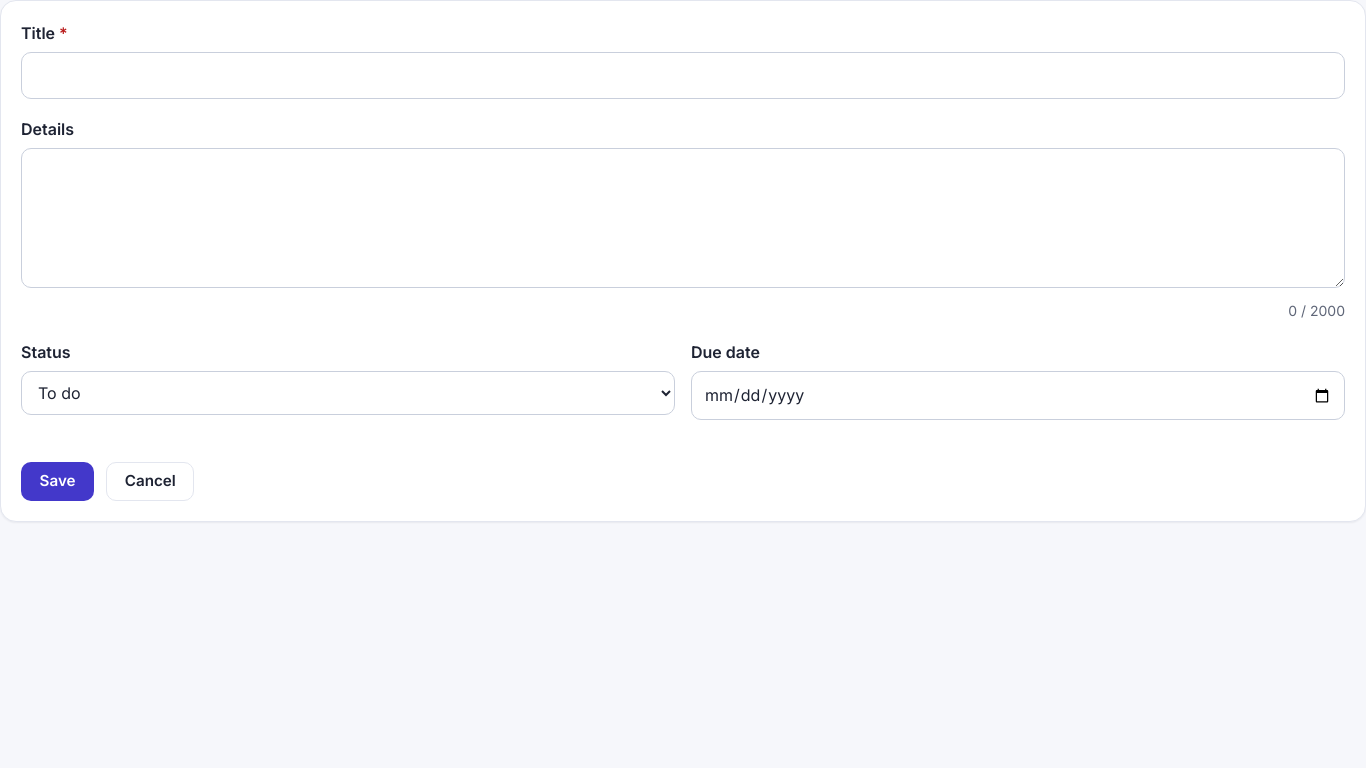
RecordForm › requires a title
Click the button "Save" at (58, 481), box [21,462,94,501]
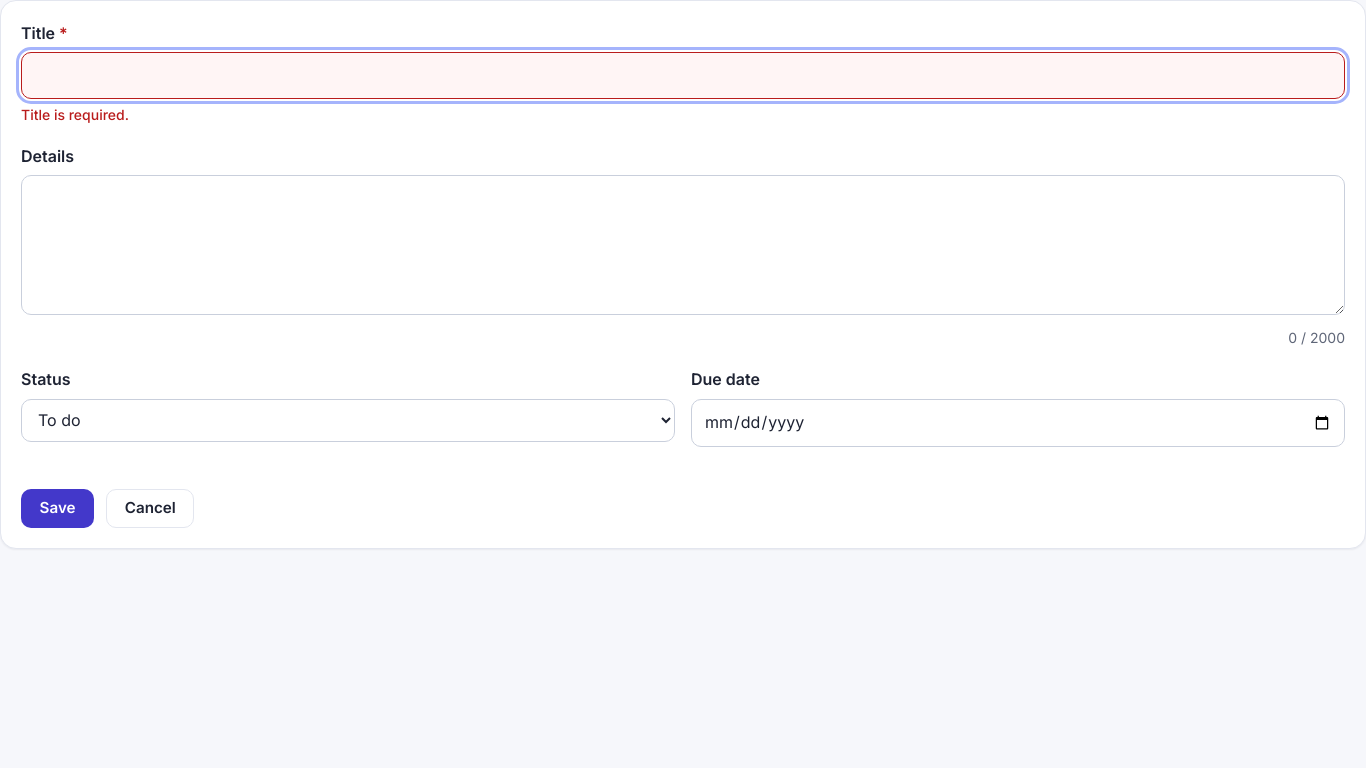
Now the text "Title is required." is shown, box [21,106,129,123]
